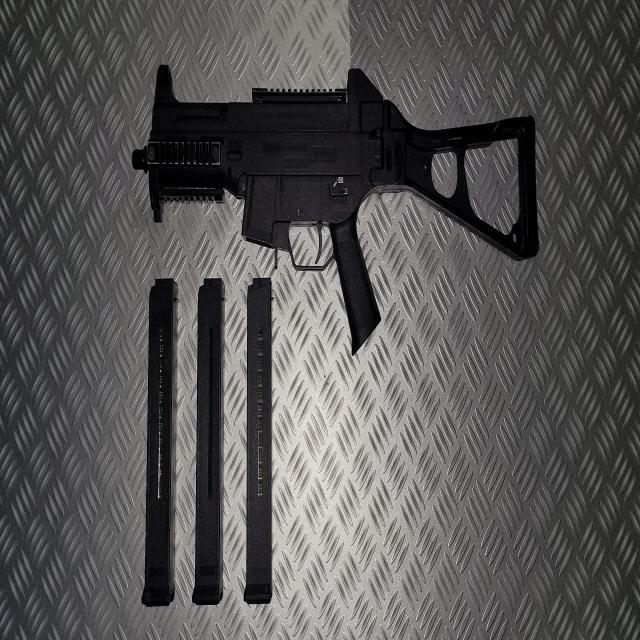SMG: (133, 66, 541, 353)
